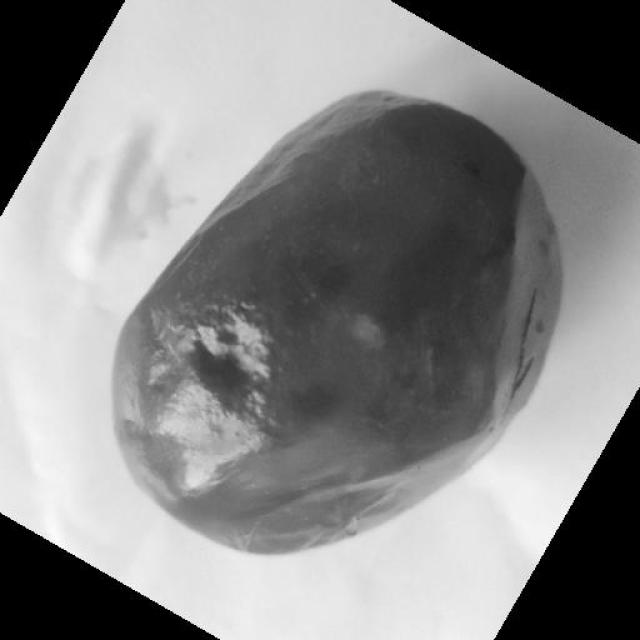Stale_tomato: (123, 208, 587, 540)
